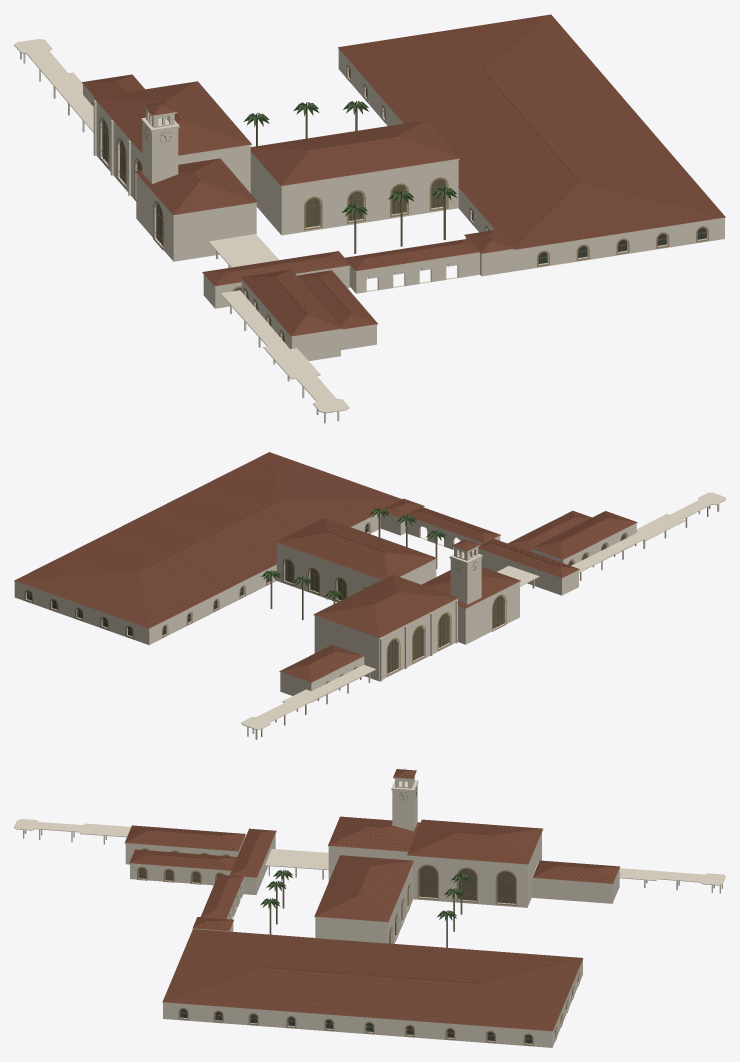
Rendered from los-angeles-union-station-near.glb.
3 views of the same model, one above another, from view 1: azimuth 30°, elevation 25°; view 2: azimuth 150°, elevation 25°; view 3: azimuth 270°, elevation 25° (orthographic). The views are drawn at different scales.
Parts seen in each view (by area): view 1: los-angeles-union-station-0-roof, los-angeles-union-station-0-stucco, los-angeles-union-station-0-glow, los-angeles-union-station-0-trim, los-angeles-union-station-0-bronze, los-angeles-union-station-0-foliage; view 2: los-angeles-union-station-0-roof, los-angeles-union-station-0-stucco, los-angeles-union-station-0-glow, los-angeles-union-station-0-trim, los-angeles-union-station-0-bronze, los-angeles-union-station-0-foliage; view 3: los-angeles-union-station-0-roof, los-angeles-union-station-0-stucco, los-angeles-union-station-0-glow, los-angeles-union-station-0-trim, los-angeles-union-station-0-bronze, los-angeles-union-station-0-foliage, los-angeles-union-station-0-glass, los-angeles-union-station-0-trunk.
Boxes of the visible parts, <box> form: los-angeles-union-station-0-roof: <box>82,14,725,336</box>; los-angeles-union-station-0-stucco: <box>14,39,725,423</box>; los-angeles-union-station-0-glow: <box>102,120,445,341</box>; los-angeles-union-station-0-trim: <box>91,64,708,342</box>; los-angeles-union-station-0-bronze: <box>93,68,706,341</box>; los-angeles-union-station-0-foliage: <box>243,101,456,218</box>; los-angeles-union-station-0-roof: <box>14,452,637,682</box>; los-angeles-union-station-0-stucco: <box>14,492,725,739</box>; los-angeles-union-station-0-glow: <box>285,534,625,683</box>; los-angeles-union-station-0-trim: <box>24,522,627,684</box>; los-angeles-union-station-0-bronze: <box>26,524,626,683</box>; los-angeles-union-station-0-foliage: <box>261,507,445,600</box>; los-angeles-union-station-0-roof: <box>125,769,619,1031</box>; los-angeles-union-station-0-stucco: <box>14,772,725,1047</box>; los-angeles-union-station-0-glow: <box>138,849,515,943</box>; los-angeles-union-station-0-trim: <box>137,848,579,1045</box>; los-angeles-union-station-0-bronze: <box>138,768,578,1043</box>; los-angeles-union-station-0-foliage: <box>260,870,470,920</box>; los-angeles-union-station-0-glass: <box>180,1009,532,1043</box>; los-angeles-union-station-0-trunk: <box>269,875,462,947</box>.
Bounding box in the file's own units: 188 × 38.71 × 260.
